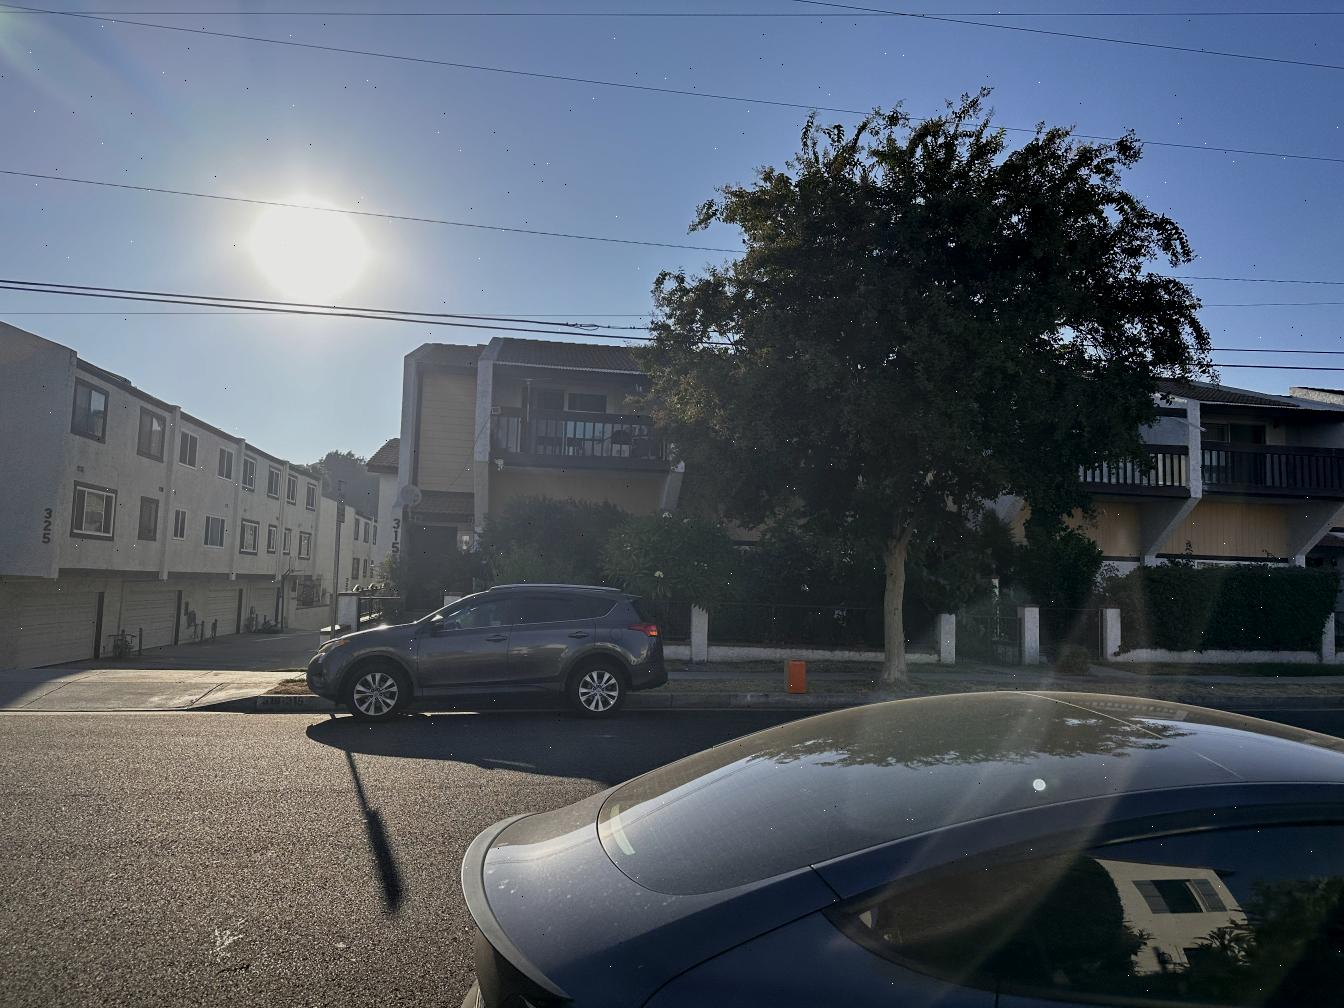curbs-laRr: (671, 689, 839, 710), (1197, 692, 1344, 712)
orange box: (782, 658, 810, 694)
